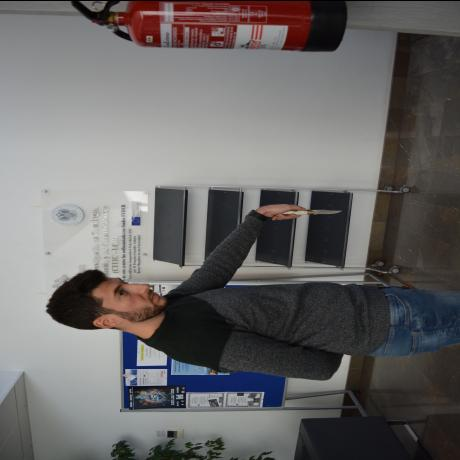1: (38, 201, 460, 380)
weapon: (274, 208, 344, 216)
